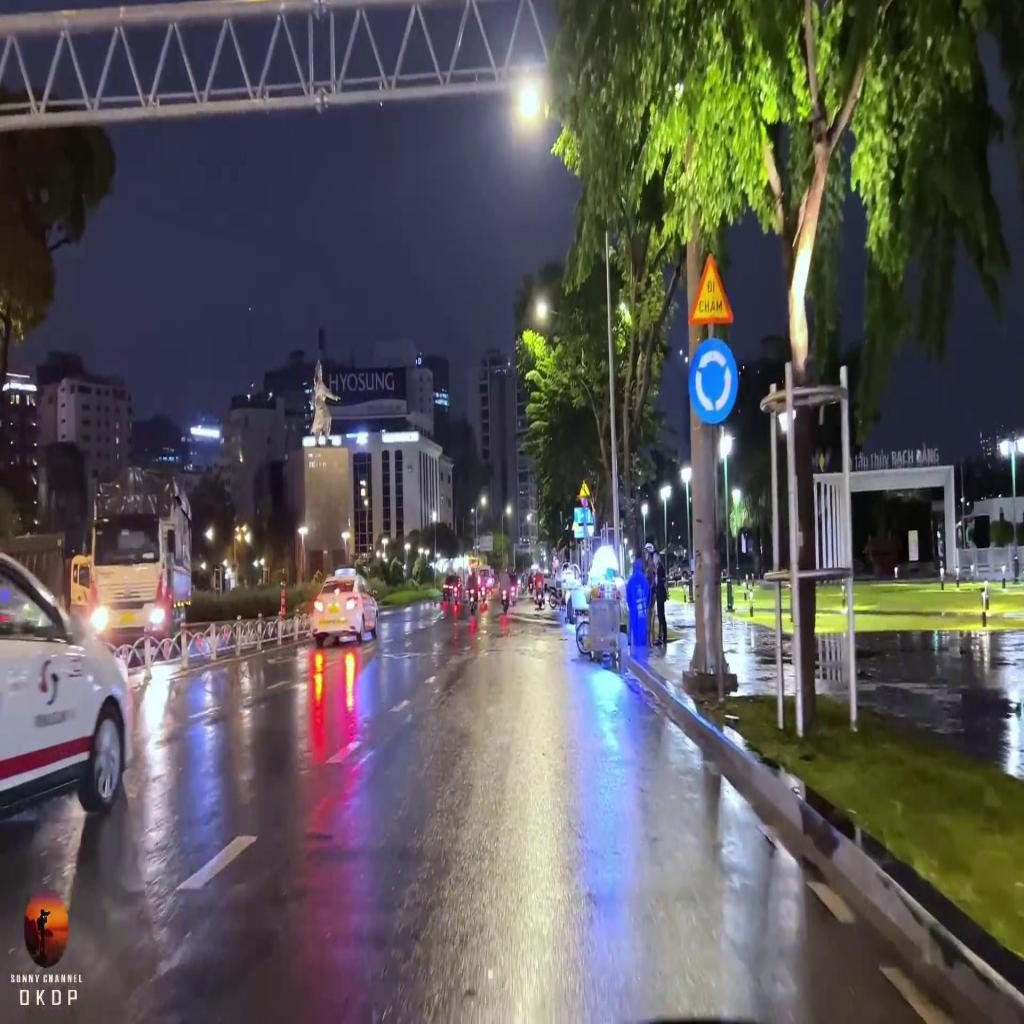di_cham: (685, 245, 736, 327)
noi_giao_nhau_chay_theo_vong: (686, 334, 741, 426)
